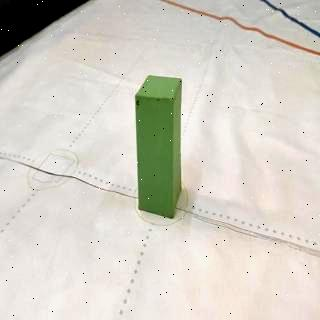greenbox: (134, 74, 184, 218)
